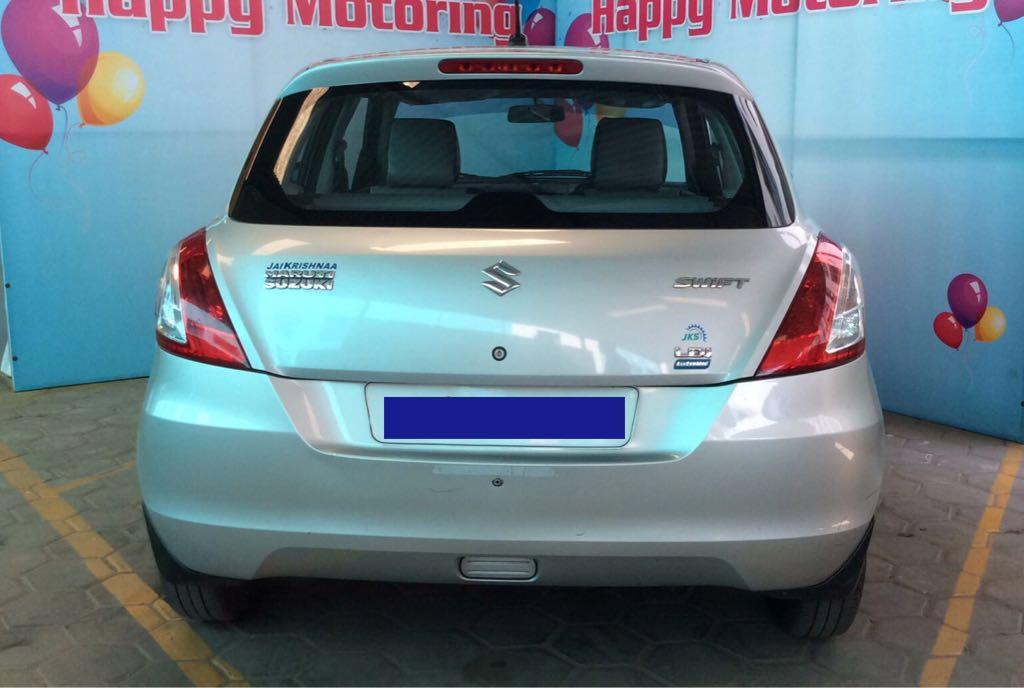Car: (132, 51, 895, 614)
